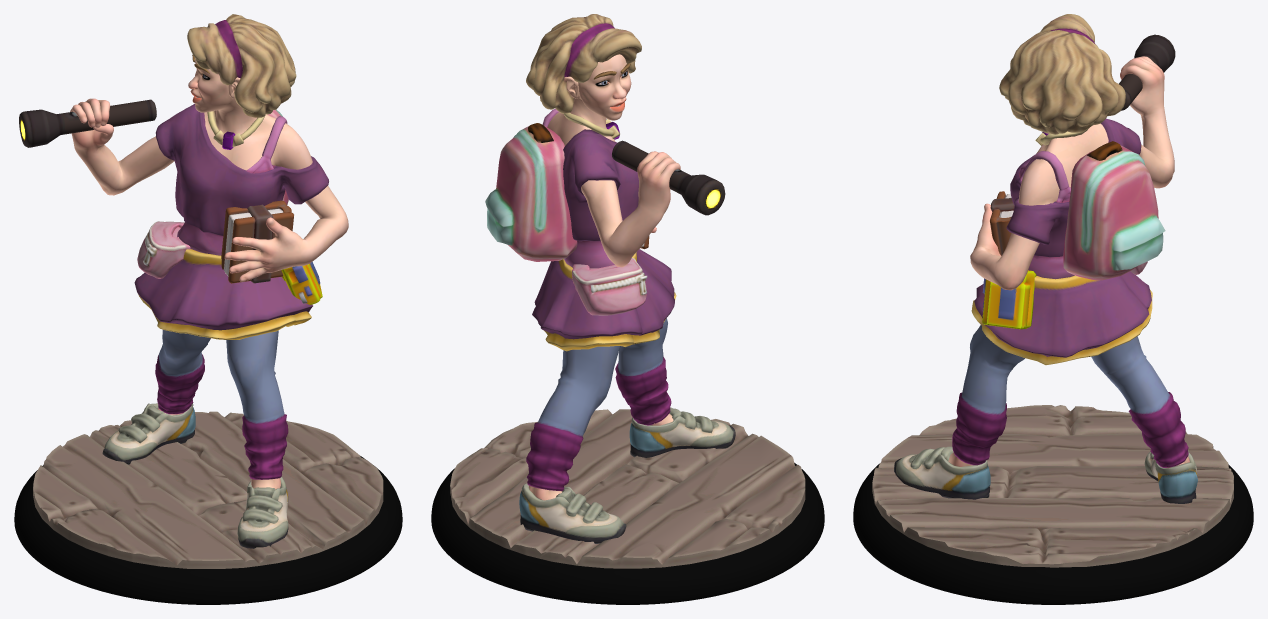
Rendered from SM_JennyLeClerc.fbx.
3 renders of one model, left to right at view 1: azimuth 30°, elevation 25°; view 2: azimuth 150°, elevation 25°; view 3: azimuth 270°, elevation 25°, orthographic. The views are drawn at different scales.
Parts seen in each view (by area): view 1: hf_4411755_5481252; view 2: hf_4411755_5481252; view 3: hf_4411755_5481252.
Part boxes in pixels (x1,y1,x2,y2): hf_4411755_5481252: (14, 14, 402, 604); hf_4411755_5481252: (431, 14, 824, 604); hf_4411755_5481252: (853, 14, 1253, 604).
Size of the model in its own units: 135 by 188 by 135.
